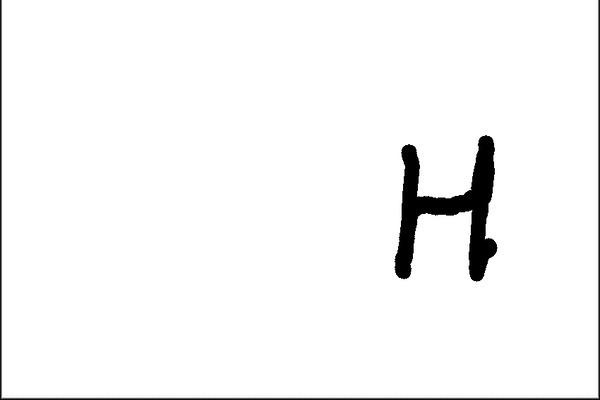H: (389, 132, 500, 287)
